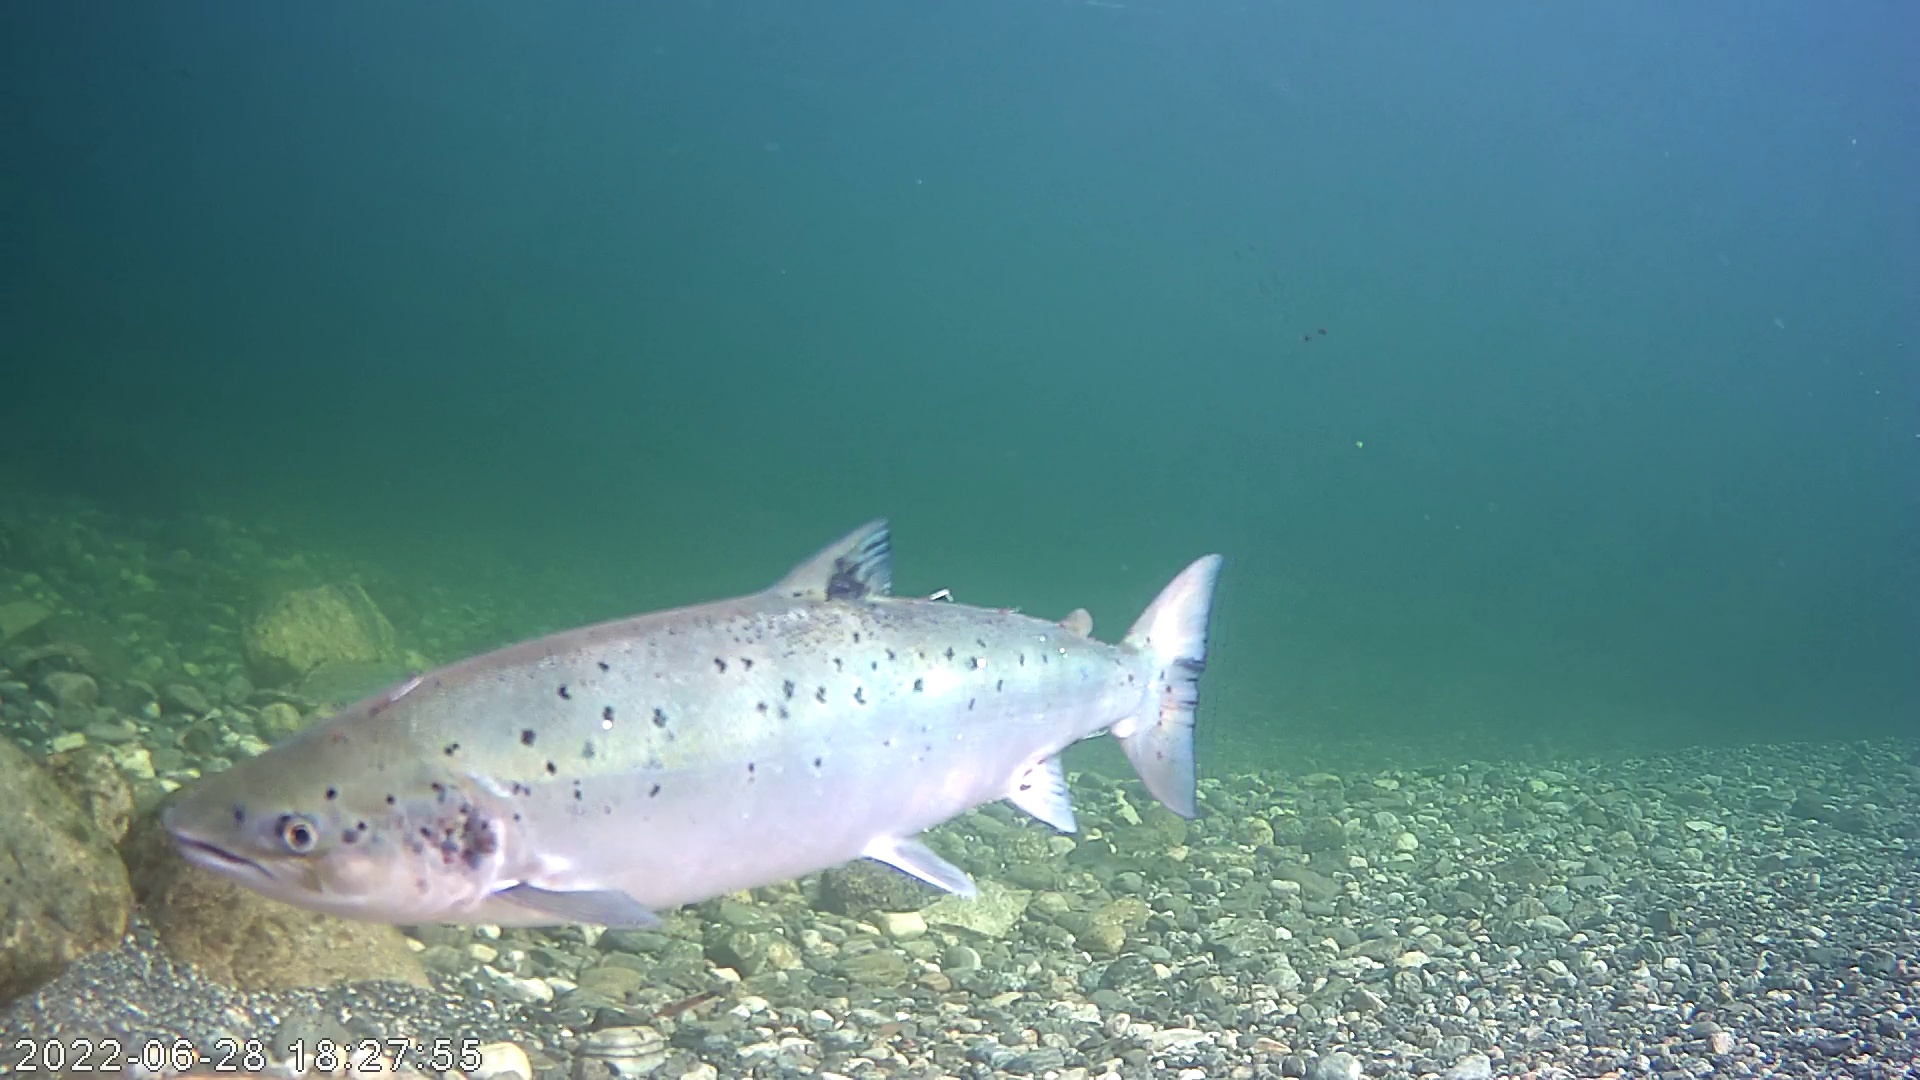salmon: (198, 448, 1244, 927)
